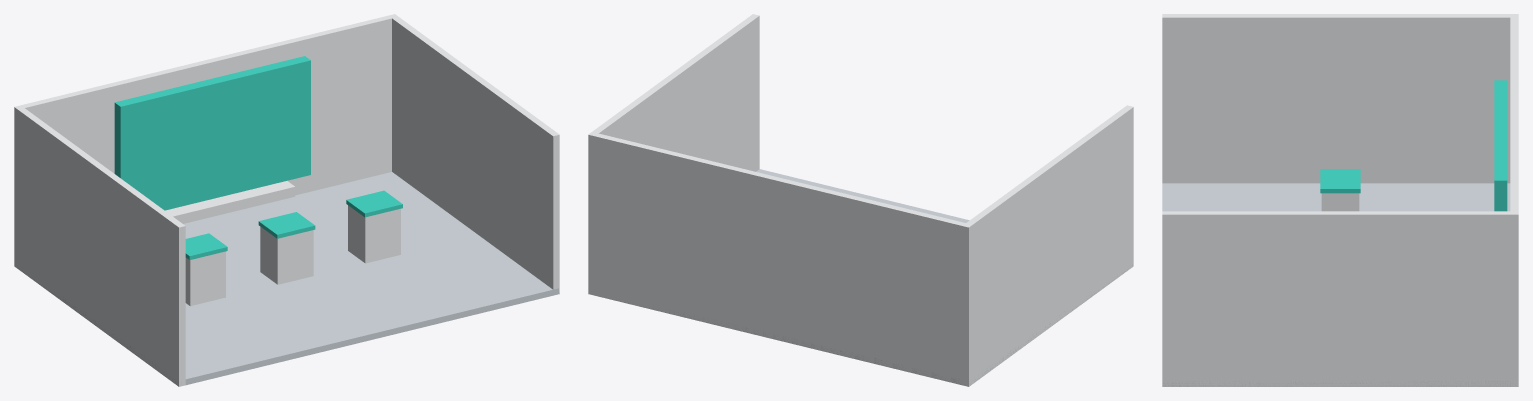
The picture shows the model from 3 angles, left to right: view 1: azimuth 30°, elevation 25°; view 2: azimuth 150°, elevation 25°; view 3: azimuth 270°, elevation 25°; orthographic projection. The views are drawn at different scales.
Visible parts, largest first — view 1: Exhibition Booth Concept; view 2: Exhibition Booth Concept; view 3: Exhibition Booth Concept.
Boxes of the visible parts, x1,y1,x2,y2 form: Exhibition Booth Concept: [14, 14, 559, 386]; Exhibition Booth Concept: [588, 14, 1133, 386]; Exhibition Booth Concept: [1162, 14, 1518, 386].
Size of the model in its own units: 8 by 3.2 by 6.
